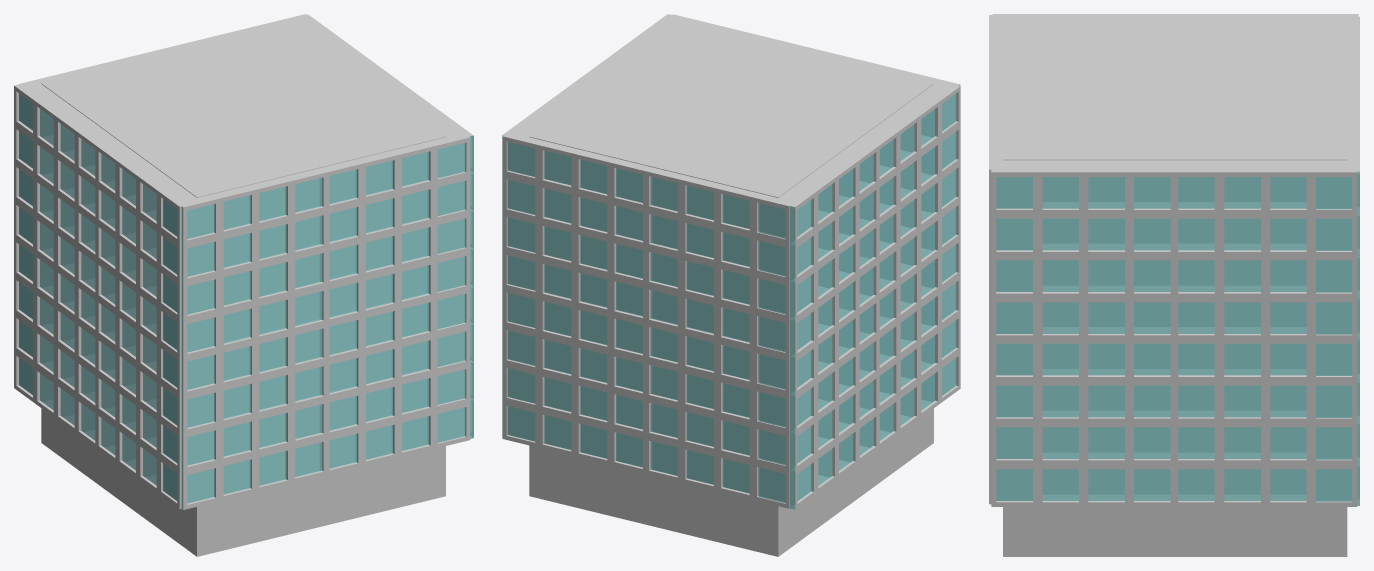
File: generic apartment.fbx
3 views of the same model, side by side, from view 1: azimuth 30°, elevation 25°; view 2: azimuth 150°, elevation 25°; view 3: azimuth 270°, elevation 25° (orthographic). The views are drawn at different scales.
Parts seen in each view (by area): view 1: group7; view 2: group7; view 3: group7.
Boxes of the visible parts, x1,y1,x2,y2 form: group7: (14,14,473,556); group7: (502,14,960,556); group7: (989,14,1359,556).
Bounding box in the file's own units: 27.31 × 31.96 × 27.02.
